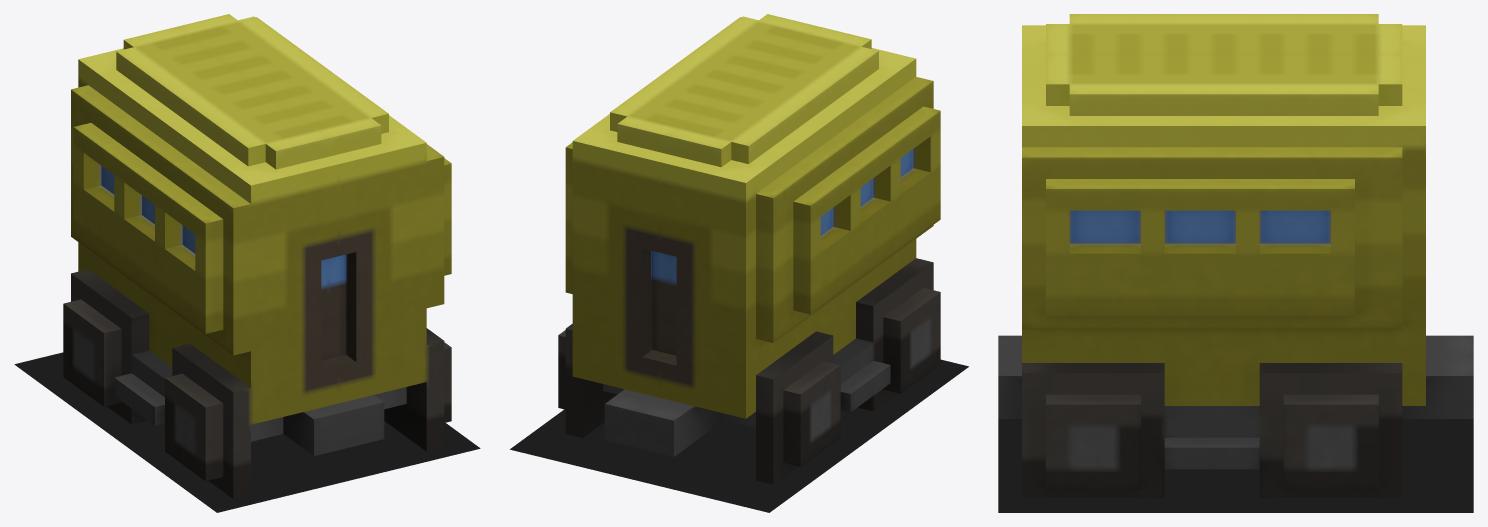
The model's file is train_body_v3.FBX.
3 renders of one model, left to right at view 1: azimuth 30°, elevation 25°; view 2: azimuth 150°, elevation 25°; view 3: azimuth 270°, elevation 25°, orthographic. The views are drawn at different scales.
Parts seen in each view (by area): view 1: train_body_v3, train_body_soft_shadow; view 2: train_body_v3, train_body_soft_shadow; view 3: train_body_v3, train_body_soft_shadow.
Boxes of the visible parts, x1,y1,x2,y2 form: train_body_v3: (63, 14, 451, 498); train_body_soft_shadow: (14, 352, 480, 512); train_body_v3: (558, 14, 940, 484); train_body_soft_shadow: (510, 359, 968, 512); train_body_v3: (998, 14, 1473, 497); train_body_soft_shadow: (998, 419, 1473, 512).
Size of the model in its own units: 750 by 900 by 1000.
